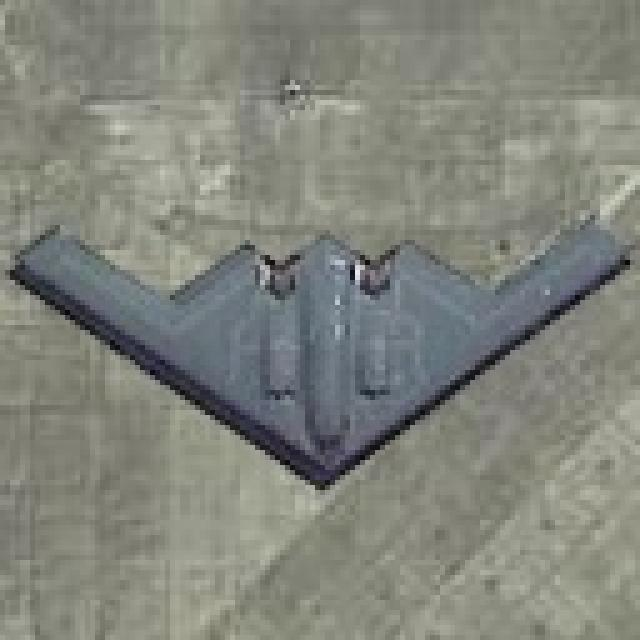B-2_TopDown: (5, 204, 635, 490)
